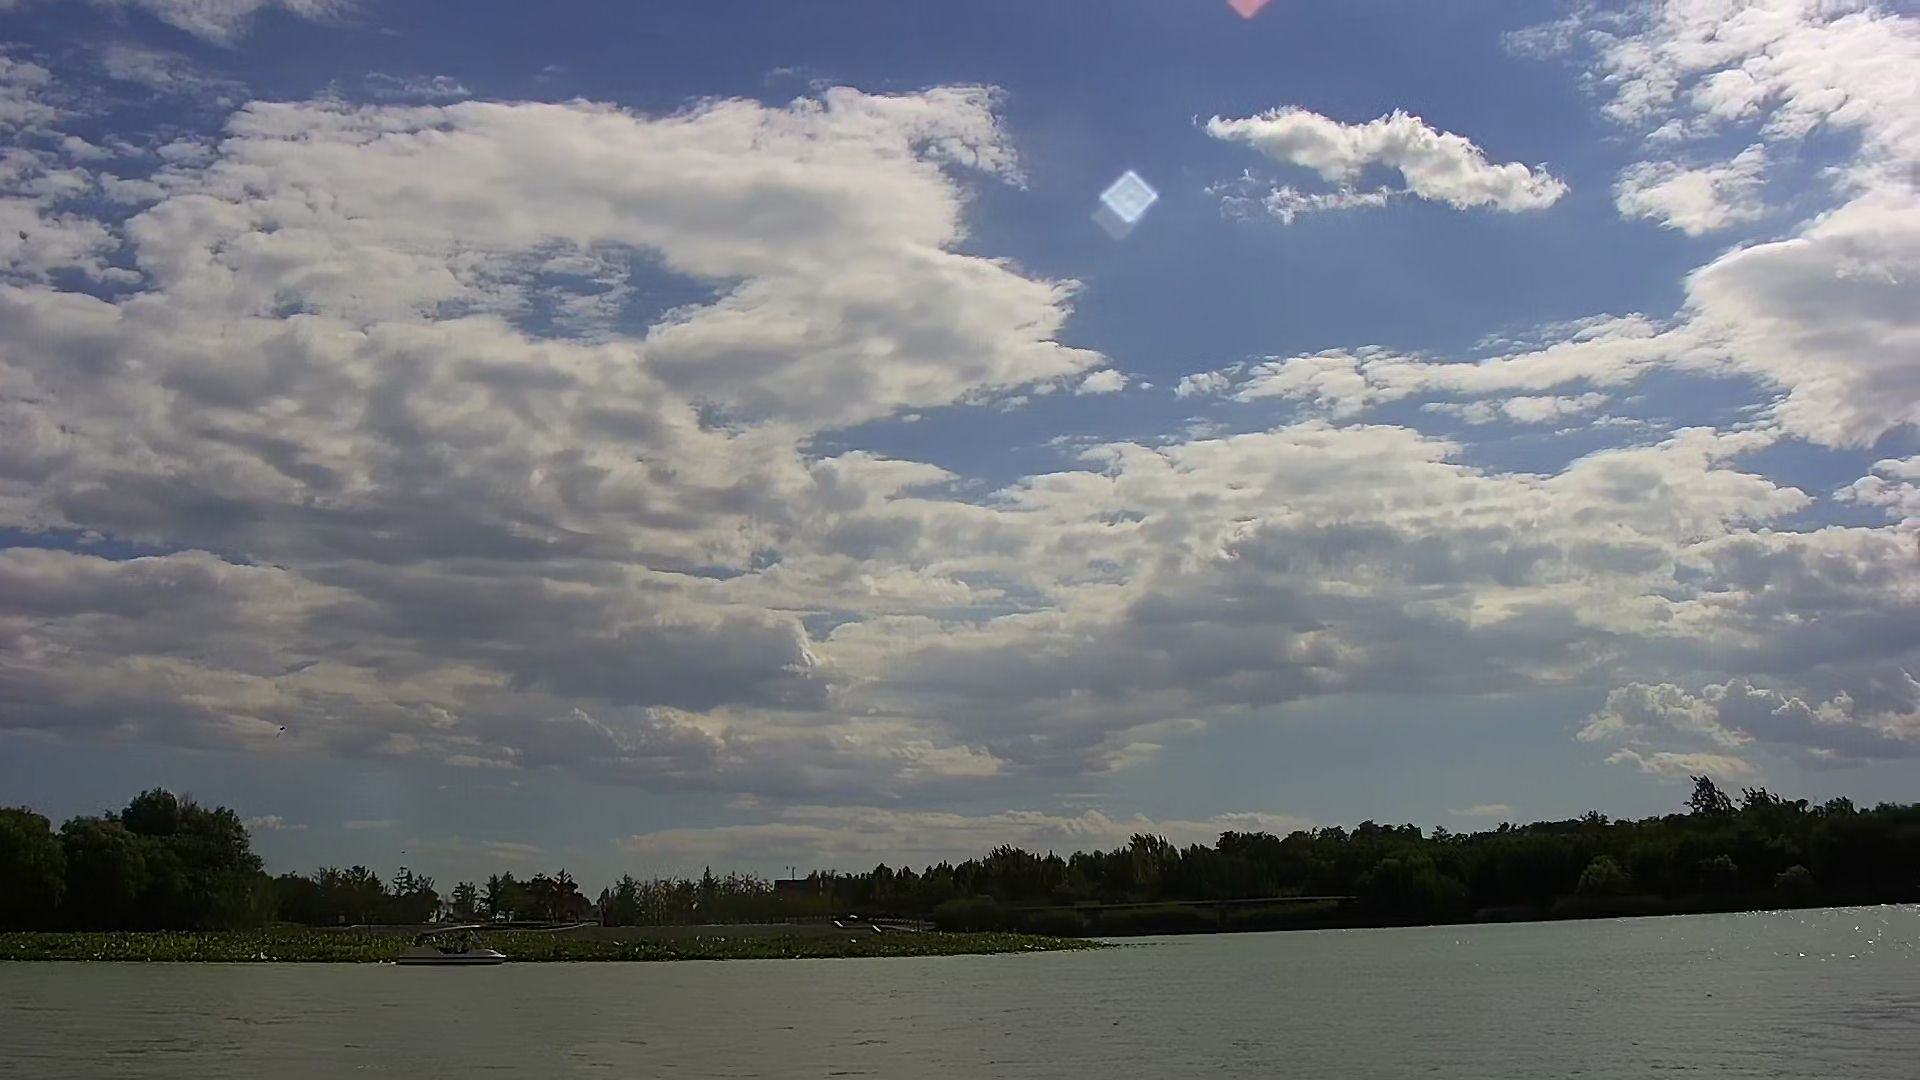boat: (398, 920, 518, 975)
